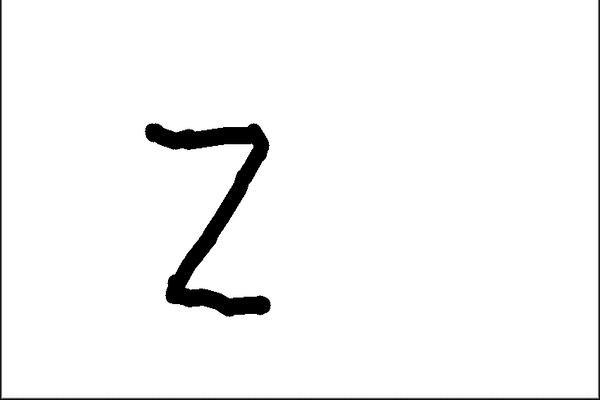Z: (141, 114, 282, 321)
